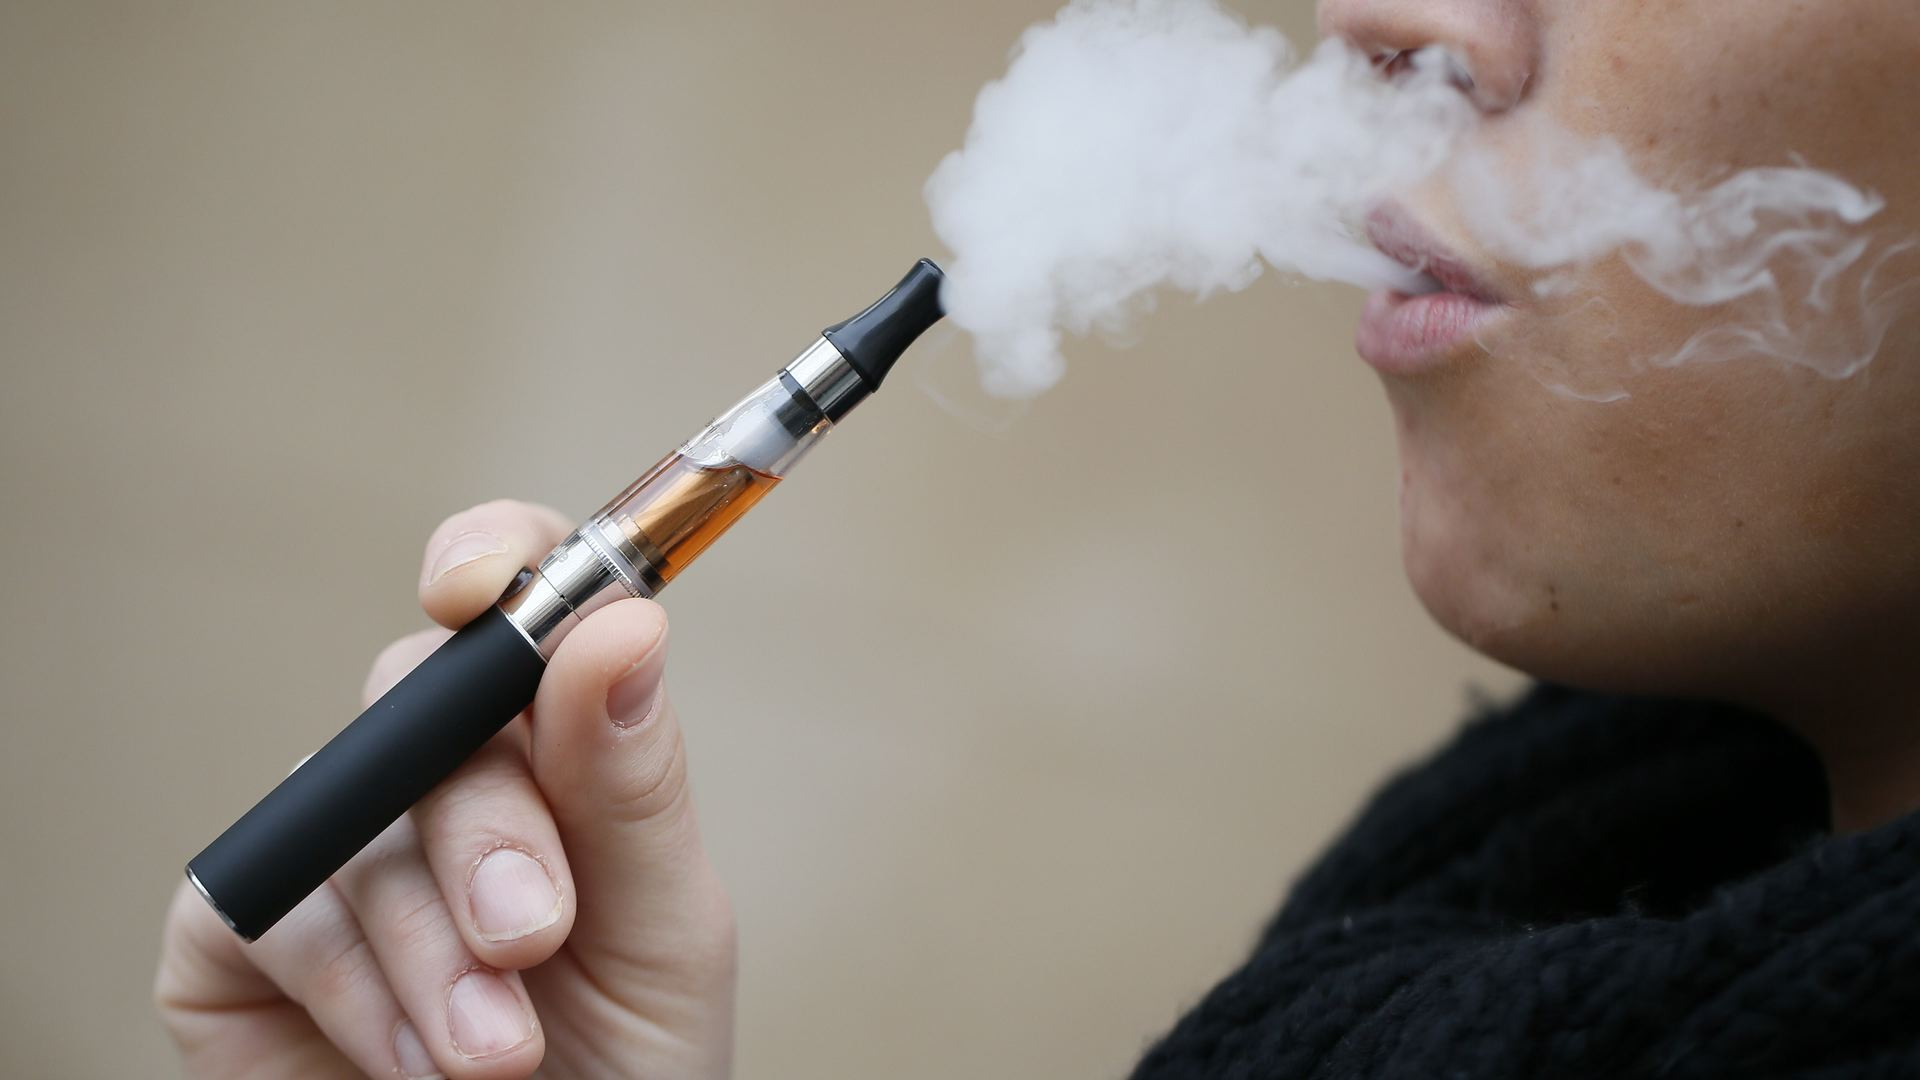ci: (189, 261, 1001, 920)
